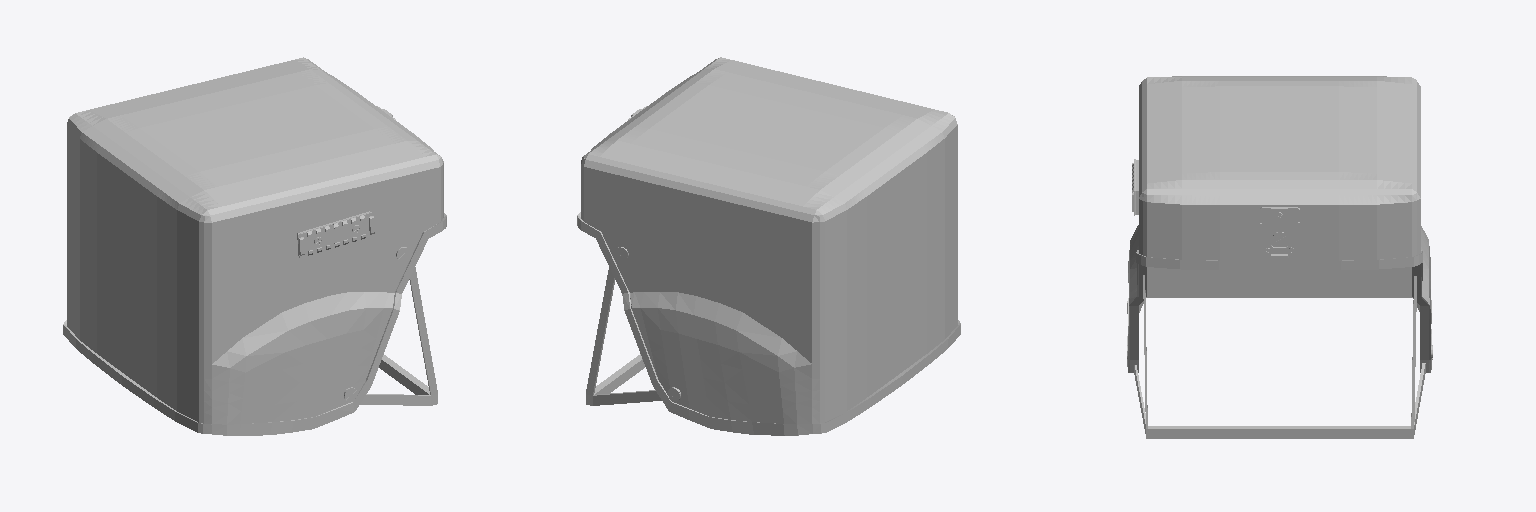
The model's file is helmet_6b47.obj.
3 renders of one model, left to right at view 1: azimuth 30°, elevation 25°; view 2: azimuth 150°, elevation 25°; view 3: azimuth 270°, elevation 25°, orthographic.
Parts seen in each view (by area): view 1: Cube.014; view 2: Cube.014; view 3: Cube.014.
Part boxes in pixels (x1,y1,x2,y2): Cube.014: (63, 57, 446, 435); Cube.014: (577, 57, 960, 435); Cube.014: (1127, 76, 1432, 438).
Bounding box in the file's own units: 2.34 × 2.13 × 2.31.